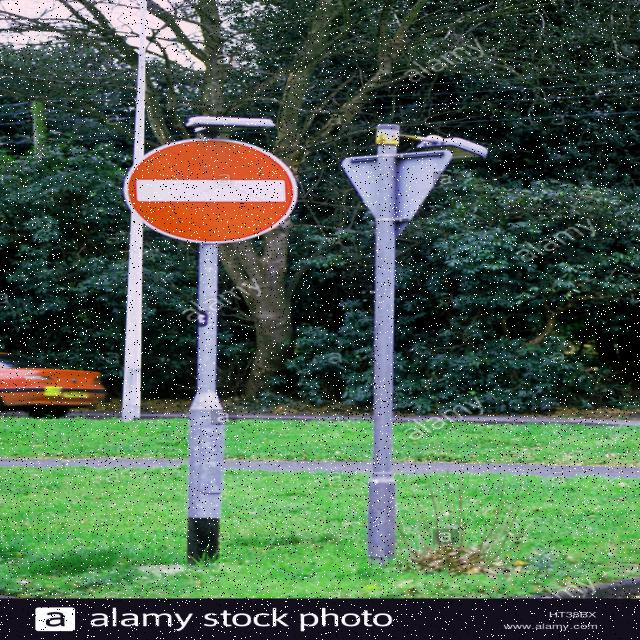no entry: (122, 134, 298, 234)
